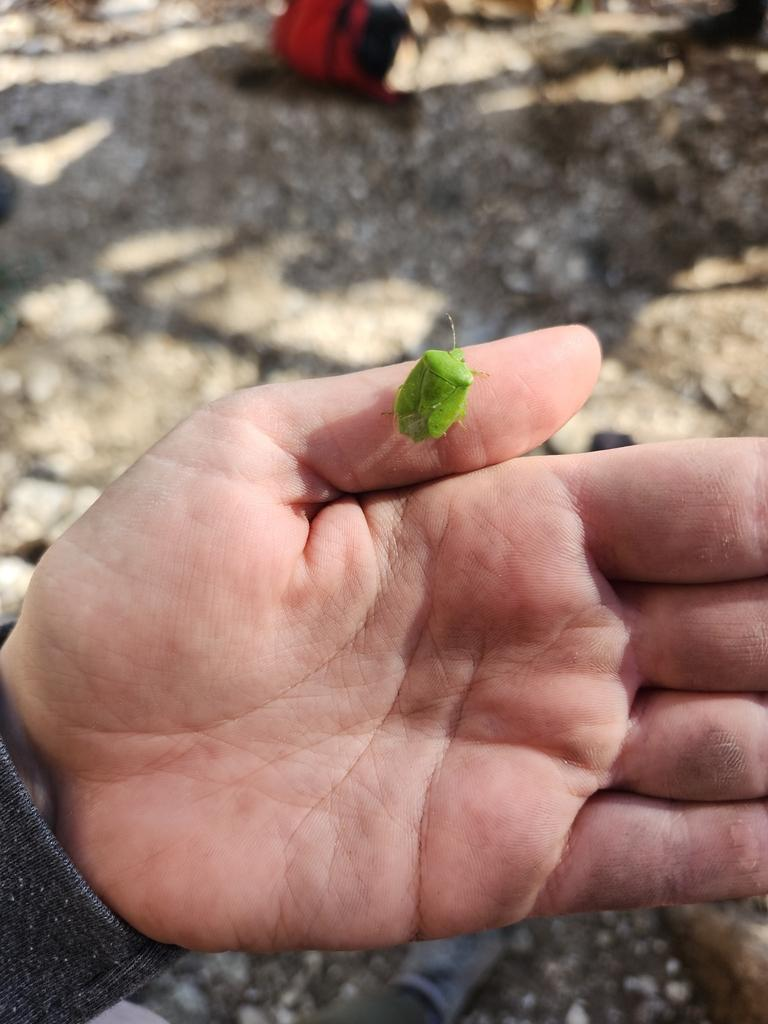stink_bugs: (362, 285, 525, 480)
